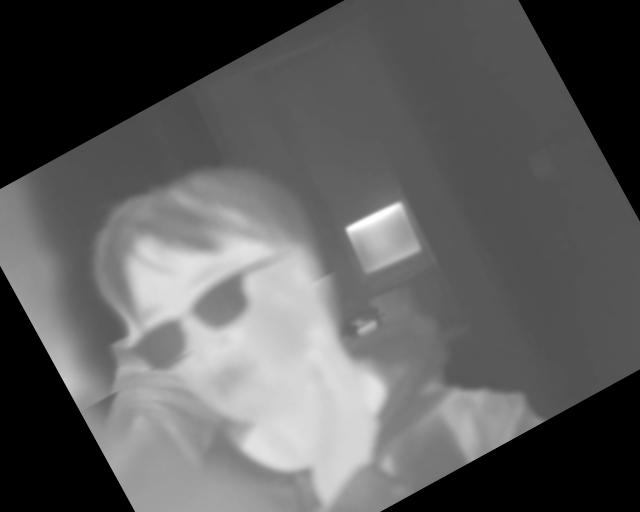face: (70, 126, 383, 454)
